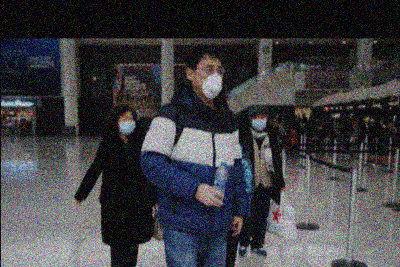with_mask: (194, 62, 225, 100), (117, 111, 136, 137), (251, 113, 268, 132)
